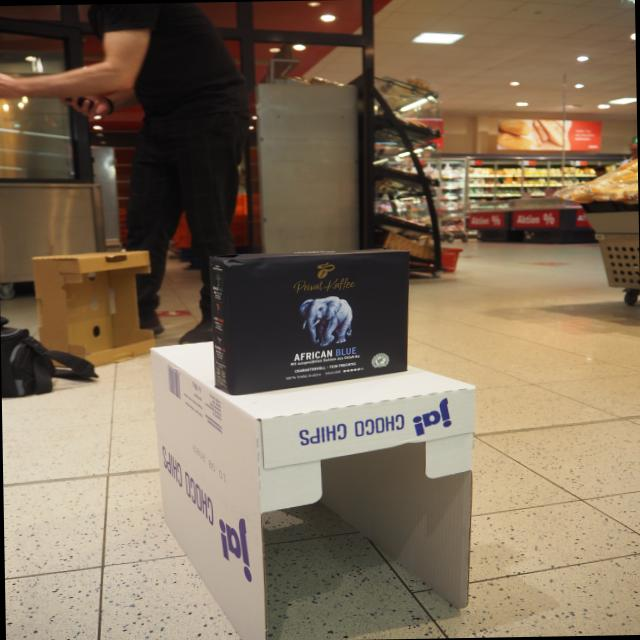AB Gemahlen: (223, 249, 411, 396)
